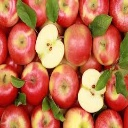apple: (108, 1, 128, 31)
